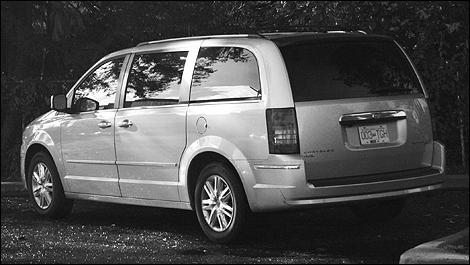car: (21, 30, 463, 244)
